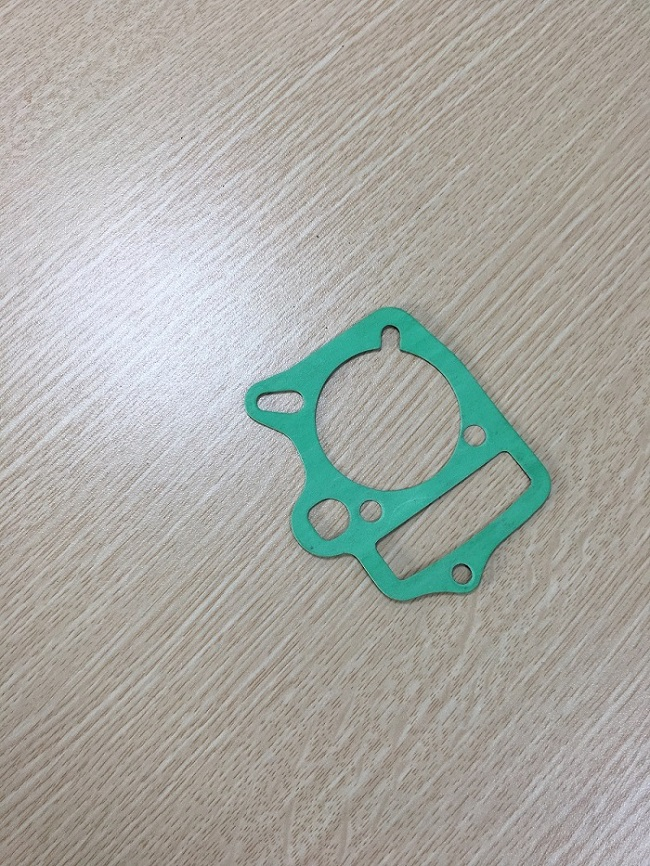circle 1: (307, 296, 470, 505)
circle 2: (289, 483, 357, 563)
circle 3: (236, 375, 315, 423)
circle 4: (460, 419, 490, 450)
circle 5: (445, 558, 482, 593)
circle 6: (369, 442, 535, 588)
object: (226, 273, 577, 659)
